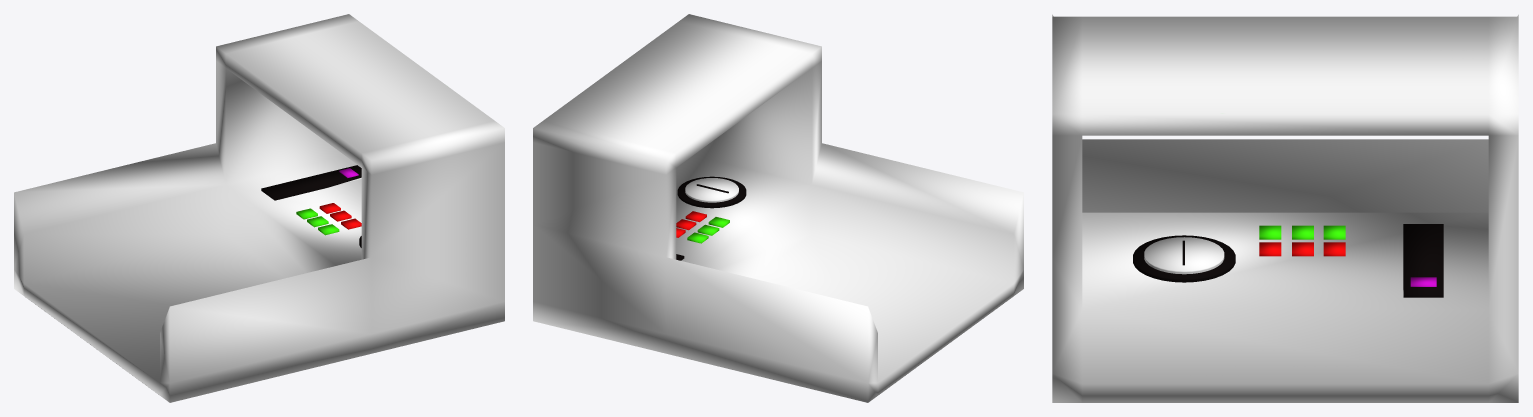
Rendered from brod3.obj.
3 views of the same model, side by side, from view 1: azimuth 30°, elevation 25°; view 2: azimuth 150°, elevation 25°; view 3: azimuth 270°, elevation 25° (orthographic). The views are drawn at different scales.
Parts seen in each view (by area): view 1: Brod, Box007; view 2: Brod, Cylinder002, Cylinder001; view 3: Brod, Box007, Cylinder002, Cylinder001.
Part boxes in pixels (x1=…): Brod: x1=14, y1=14, x2=504, y2=402; Box007: x1=261, y1=165, x2=361, y2=200; Brod: x1=533, y1=14, x2=1023, y2=402; Cylinder002: x1=685, y1=178, x2=738, y2=202; Cylinder001: x1=677, y1=176, x2=746, y2=208; Brod: x1=1052, y1=14, x2=1518, y2=402; Box007: x1=1403, y1=224, x2=1443, y2=297; Cylinder002: x1=1144, y1=237, x2=1224, y2=274; Cylinder001: x1=1133, y1=235, x2=1235, y2=282.
Size of the model in its own units: 24.81 by 13.67 by 19.99.
